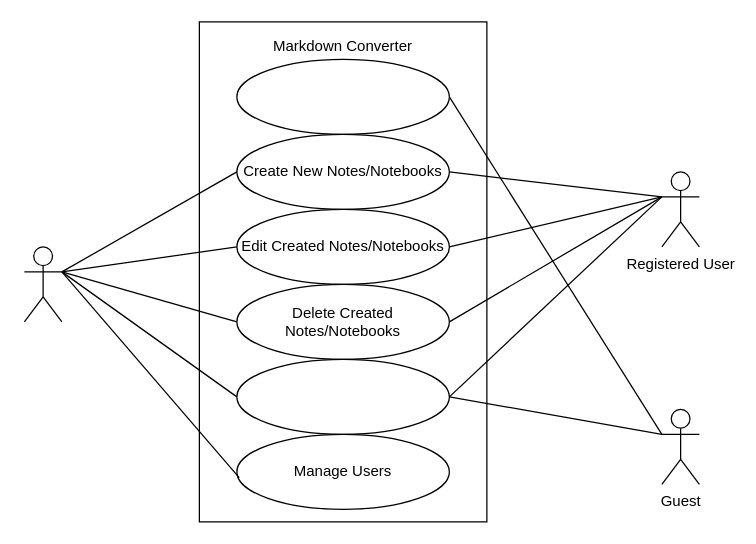
The diagram is 756 pixels wide and 544 high, and some of its shapes have lost their labels. The shapes that lost their labels are listed below. From the top down, each one's centre as x and y in pixels, then its label:
At pixel 342 96: "Register For Site".
At pixel 42 284: "Admin".
At pixel 342 396: "View Public Notebooks".
